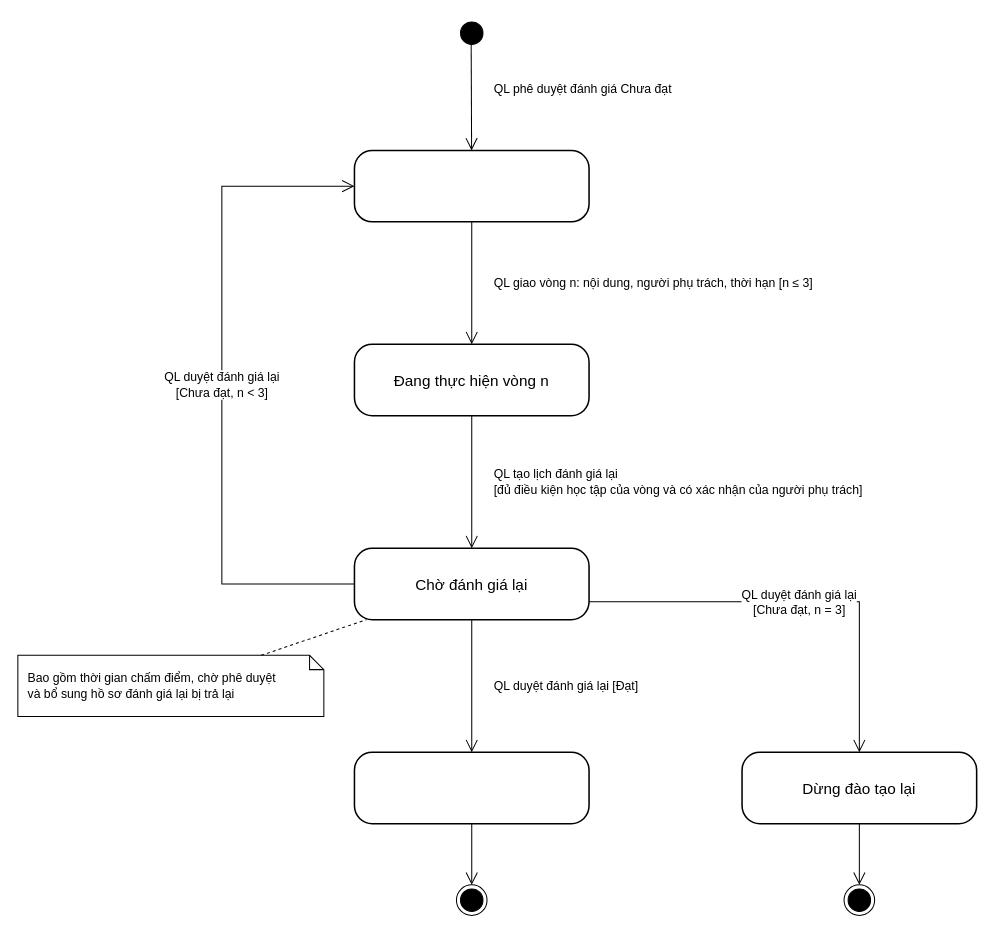
This 996x933 diagram has some shape labels left out. The shapes that lost their labels are listed below. From the top down, each one's box as (x1, y1, x2, y2) in pixels, then its label:
(353, 149, 589, 222): Chờ giao
(353, 751, 589, 824): Hoàn tất
